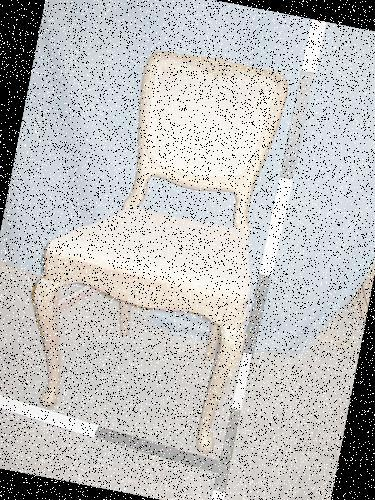Silla: (14, 33, 297, 448)
